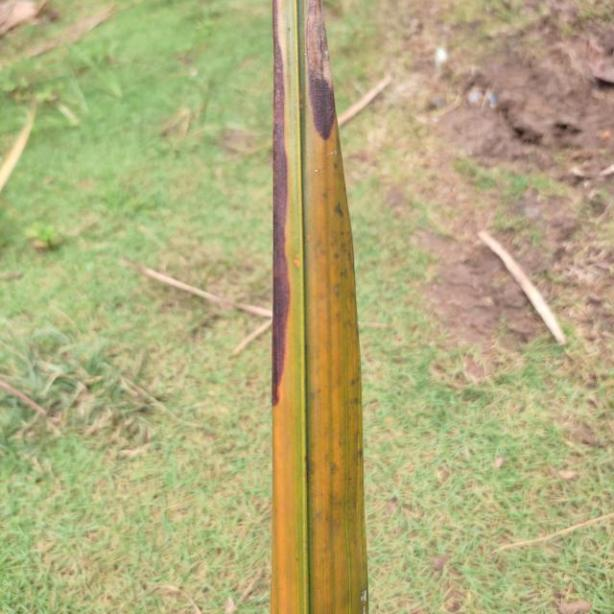Megnesium: (262, 0, 373, 614)
